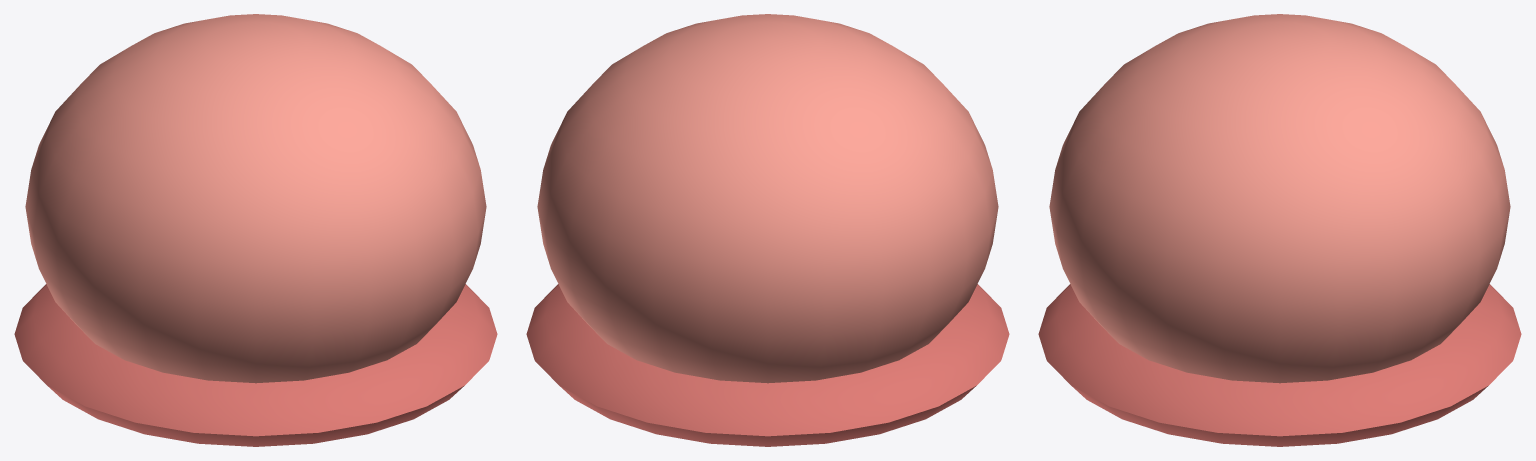
File: Obs3_Slime.fbx
The picture shows the model from 3 angles, left to right: view 1: azimuth 30°, elevation 25°; view 2: azimuth 150°, elevation 25°; view 3: azimuth 270°, elevation 25°; orthographic projection.
Visible parts, largest first — view 1: Obs3_Slime; view 2: Obs3_Slime; view 3: Obs3_Slime.
Part boxes in pixels (bbox=[...]): Obs3_Slime: bbox=[14, 14, 497, 446]; Obs3_Slime: bbox=[526, 14, 1009, 446]; Obs3_Slime: bbox=[1038, 14, 1521, 446].
Bounding box in the file's own units: 1.1 × 0.861 × 1.1.
